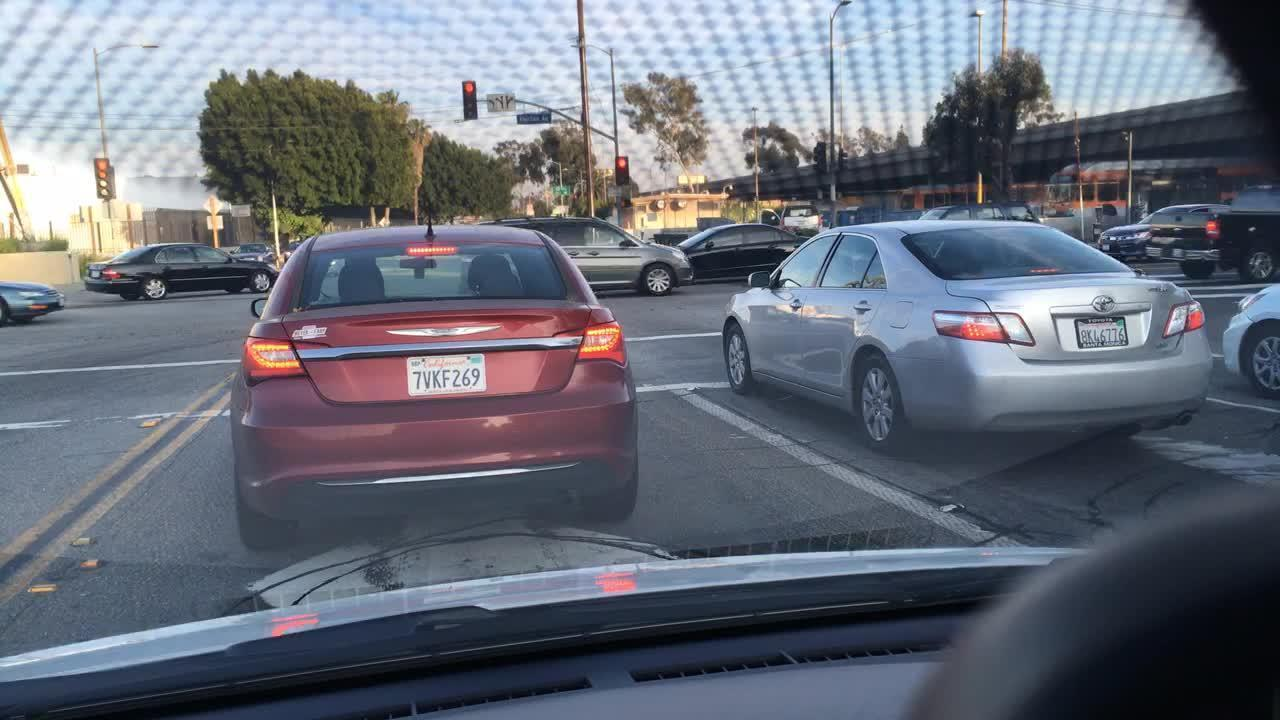Chrysler: (383, 318, 508, 345)
Toyota: (1091, 295, 1114, 311)
